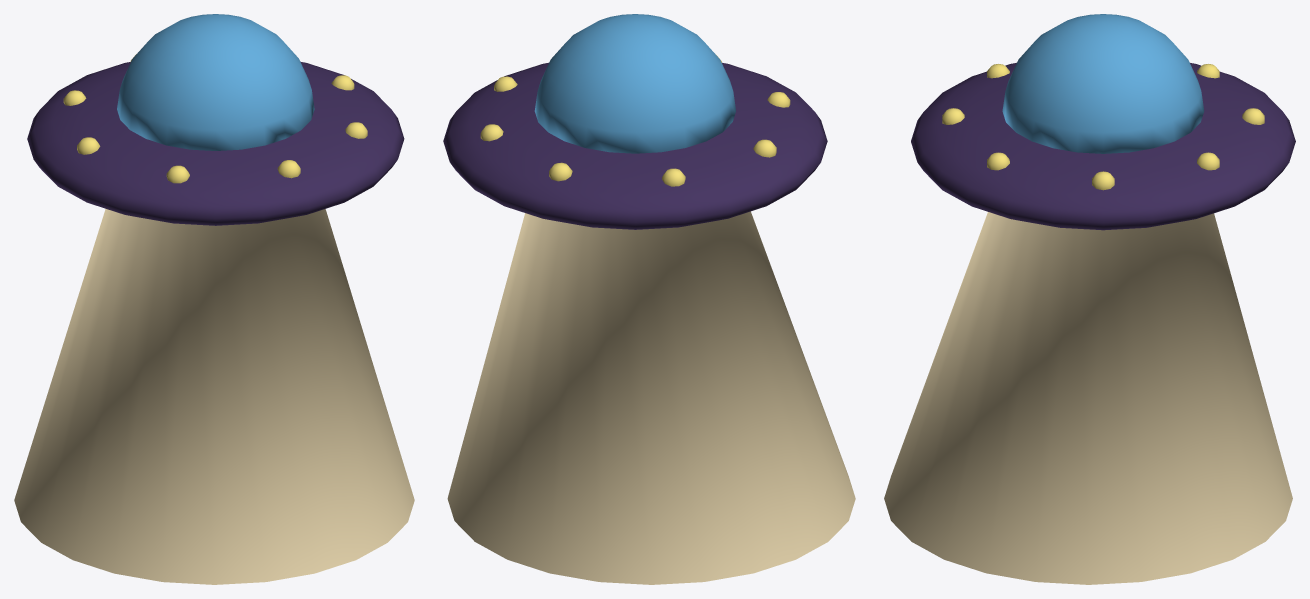
File: ufo_model.fbx
The picture shows the model from 3 angles, left to right: view 1: azimuth 30°, elevation 25°; view 2: azimuth 150°, elevation 25°; view 3: azimuth 270°, elevation 25°; orthographic projection. The views are drawn at different scales.
Visible parts, largest first — view 1: Sphere, Sphere.1; view 2: Sphere, Sphere.1; view 3: Sphere, Sphere.1.
Part boxes in pixels (bbox=[...]): Sphere: bbox=[14, 61, 414, 584]; Sphere.1: bbox=[117, 14, 314, 150]; Sphere: bbox=[443, 62, 855, 584]; Sphere.1: bbox=[534, 14, 735, 153]; Sphere: bbox=[884, 62, 1295, 584]; Sphere.1: bbox=[1002, 14, 1204, 153].
Size of the model in its own units: 182 by 236 by 183.
